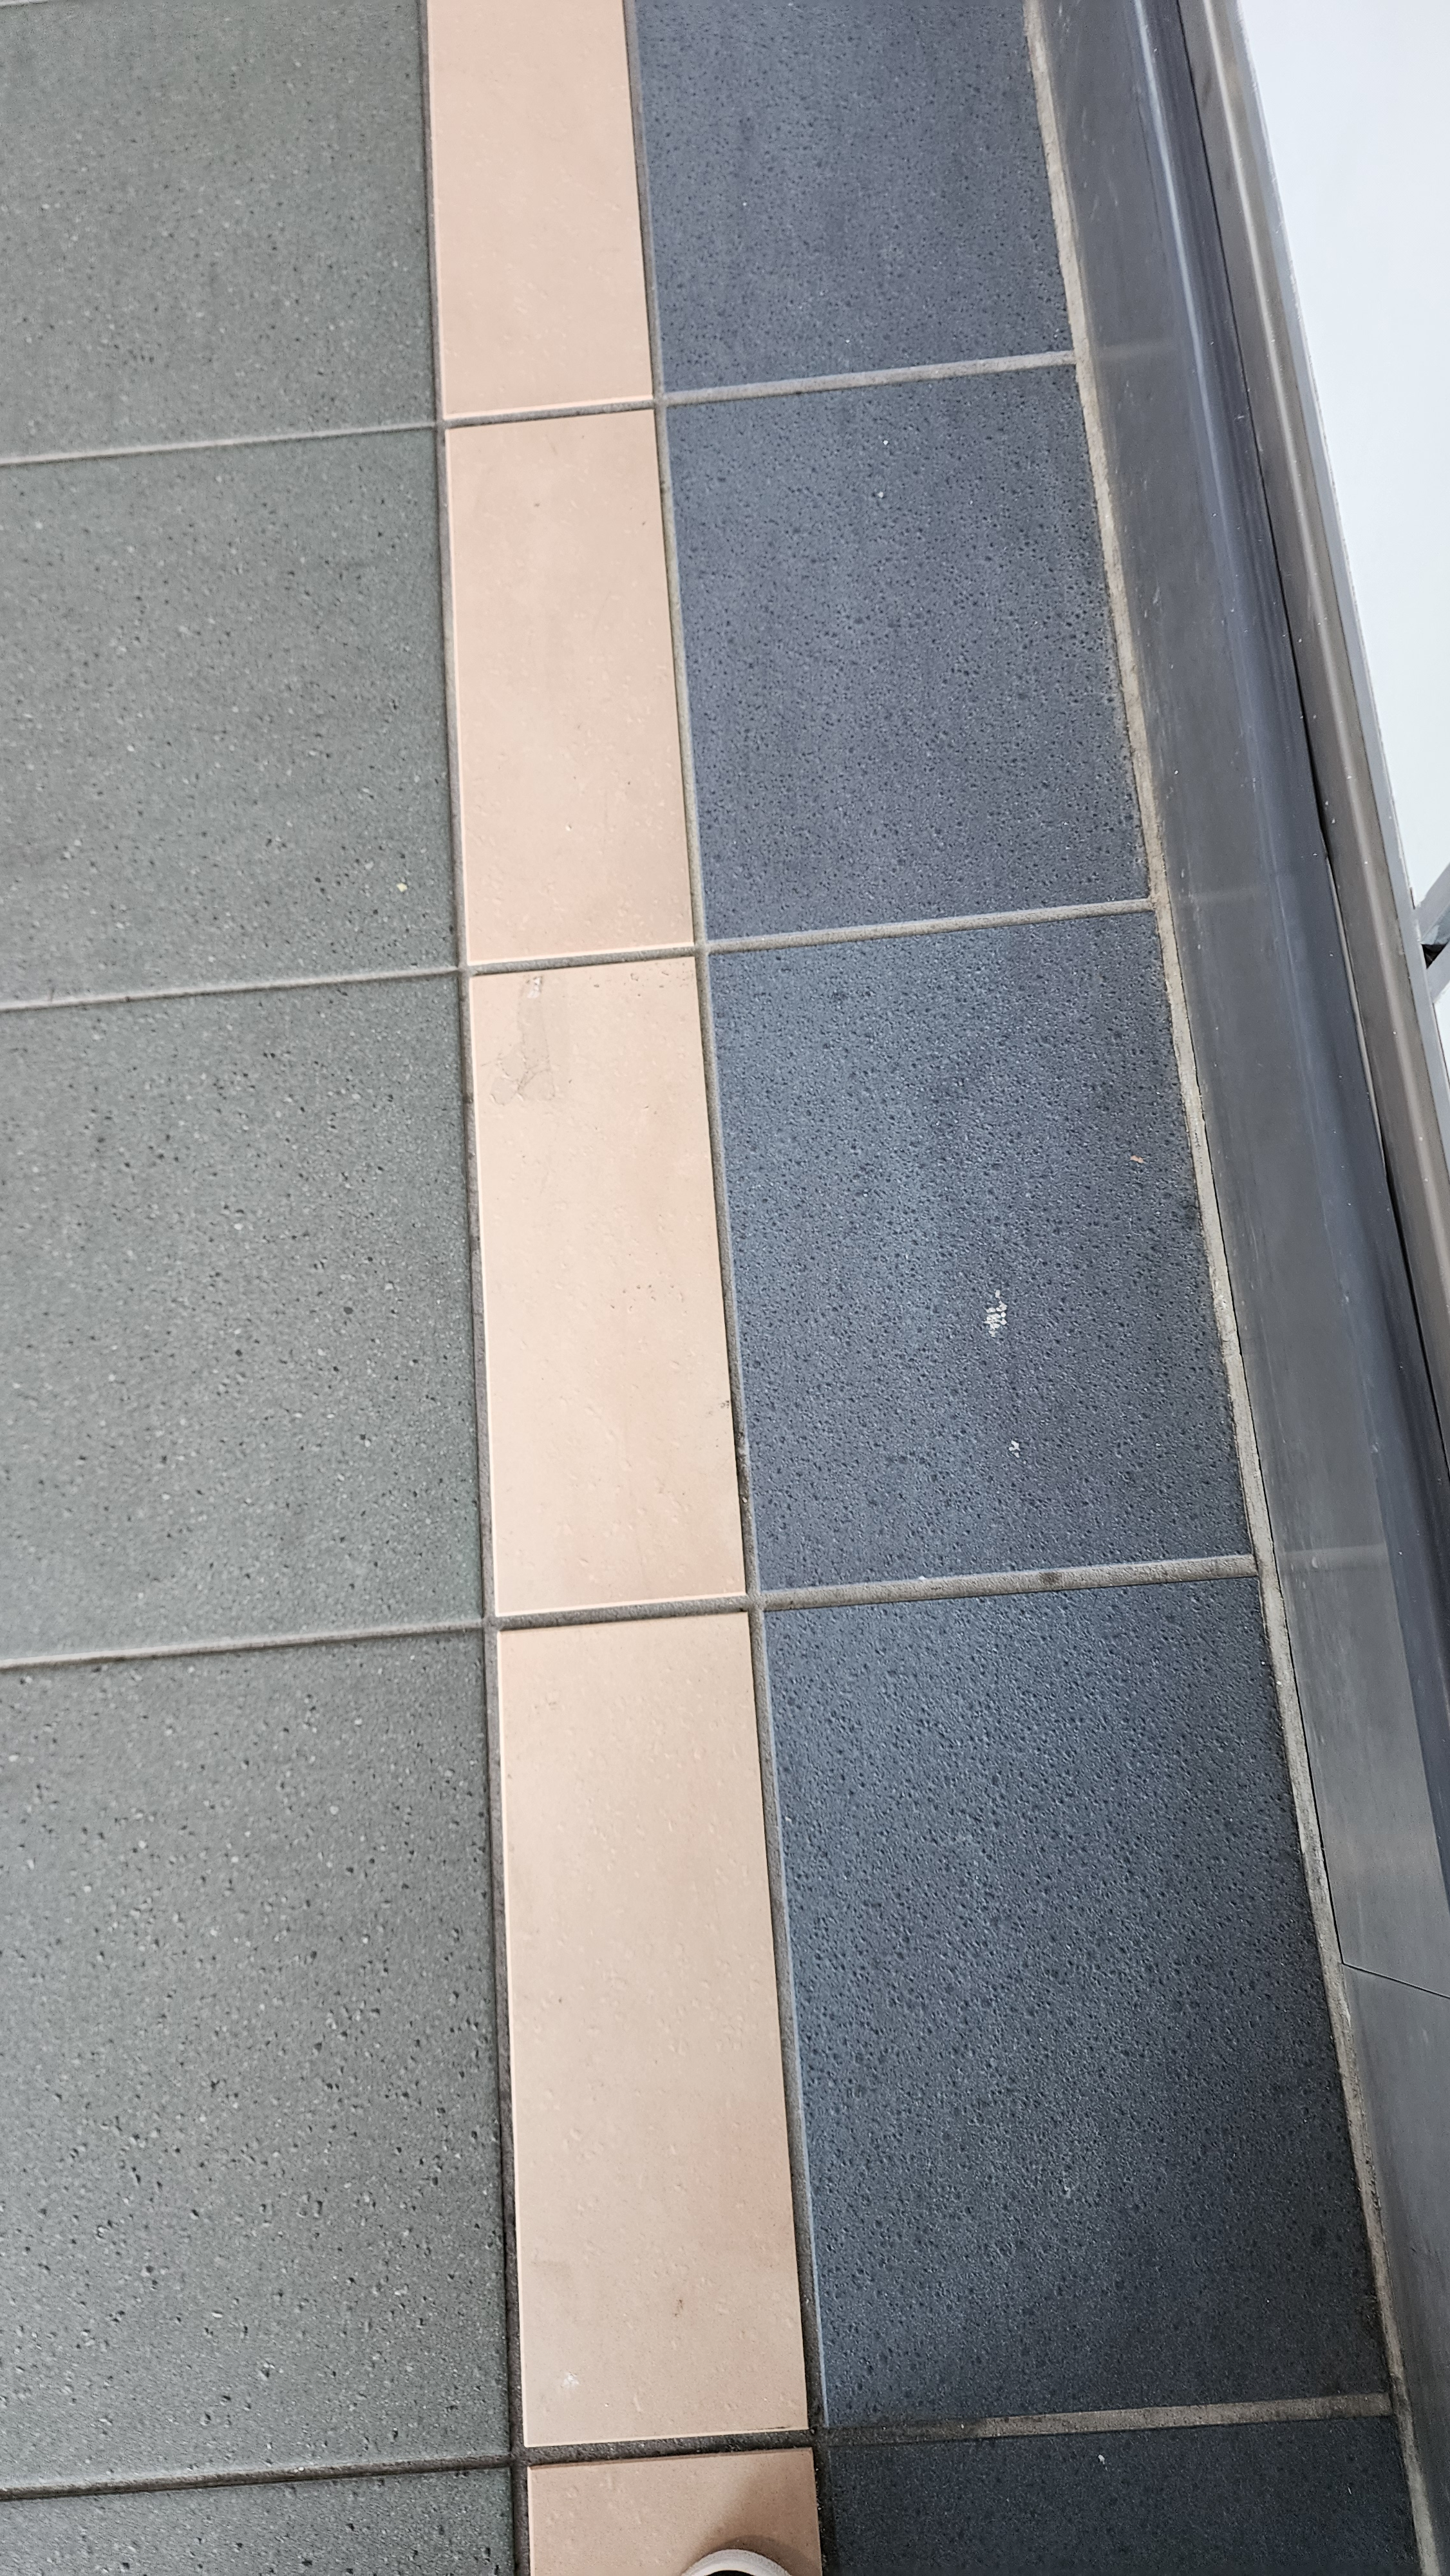Stain: (978, 1260, 1045, 1467)
